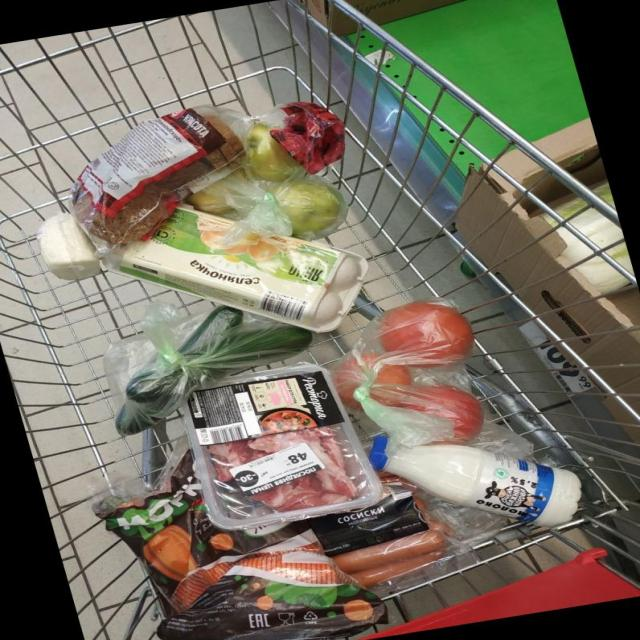Apple: (271, 174, 347, 240), (184, 173, 265, 220), (243, 122, 299, 182)
Bread: (69, 102, 344, 244)
Carrot: (239, 555, 341, 585)
Cheese: (36, 213, 101, 280)
Cucumber: (198, 325, 312, 378), (176, 305, 242, 354), (125, 369, 181, 403), (113, 402, 159, 435)
Eggs: (111, 205, 367, 332)
Meat: (183, 365, 381, 529)
Milk: (368, 436, 581, 526)
Sausages: (309, 472, 474, 596)
Tomatoes: (377, 300, 473, 360), (415, 386, 483, 440), (331, 356, 364, 409), (374, 364, 410, 384), (359, 353, 377, 364)
